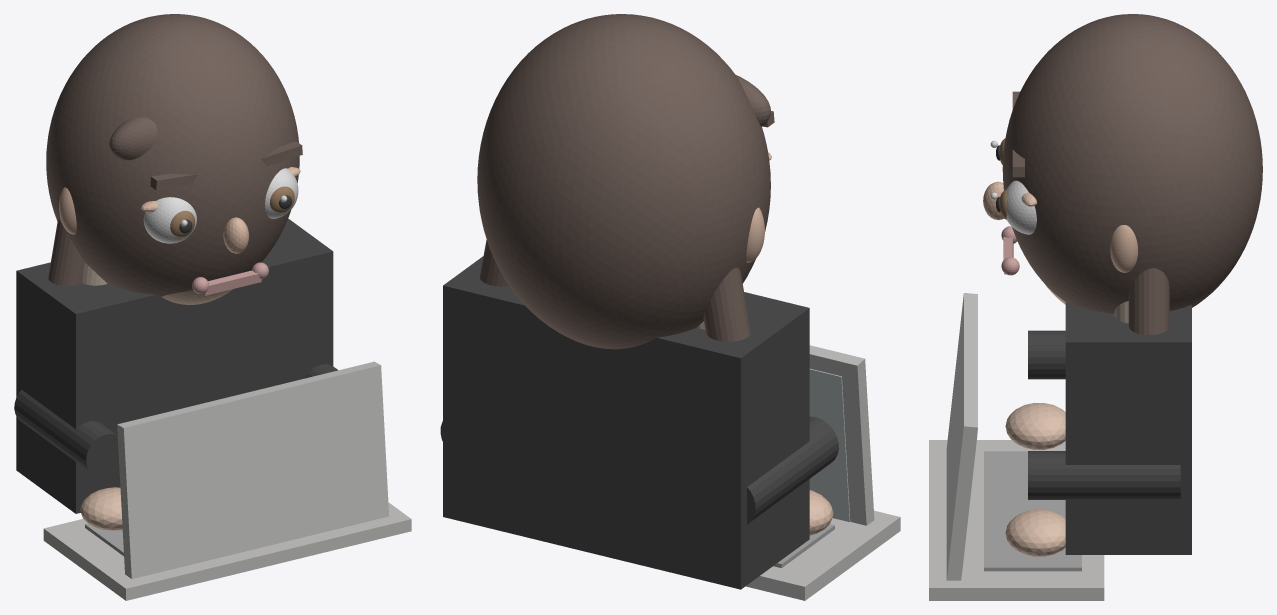
File: paulina_avatar_cartoon_v1.glb
3 views of the same model, side by side, from view 1: azimuth 30°, elevation 25°; view 2: azimuth 150°, elevation 25°; view 3: azimuth 270°, elevation 25° (orthographic). The views are drawn at different scales.
Visible parts, largest first — view 1: HairCap, Torso, LaptopScreen, LaptopBase, Arm_L, HairFringe_L, HairStrand_0, Hand_L, EyeWhite_L, EyeWhite_R, Mouth, Nose (+5 smaller); view 2: Torso, HairCap, LaptopBase, LaptopScreen, Arm_L, ScreenGlow, HairStrand_0, Hand_L, HairFringe_L, Ear_L, HairStrand_3; view 3: HairCap, Torso, LaptopBase, LaptopScreen, LaptopKeyboard, Arm_R, HairStrand_3, Hand_R, Hand_L, Arm_L, EyeWhite_R, Ear_R (+1 smaller).
Part boxes in pixels (x1=…): HairCap: x1=46, y1=14, x2=299, y2=296; Torso: x1=16, y1=218, x2=333, y2=513; LaptopScreen: x1=117, y1=361, x2=388, y2=578; LaptopBase: x1=43, y1=502, x2=411, y2=600; Arm_L: x1=14, y1=390, x2=119, y2=476; HairFringe_L: x1=109, y1=117, x2=157, y2=160; HairStrand_0: x1=48, y1=219, x2=84, y2=285; Hand_L: x1=80, y1=487, x2=122, y2=530; EyeWhite_L: x1=143, y1=197, x2=196, y2=243; EyeWhite_R: x1=265, y1=168, x2=298, y2=218; Mouth: x1=203, y1=270, x2=261, y2=295; Nose: x1=223, y1=217, x2=249, y2=253; Torso: x1=443, y1=256, x2=809, y2=589; HairCap: x1=477, y1=14, x2=770, y2=349; LaptopBase: x1=745, y1=510, x2=900, y2=600; LaptopScreen: x1=809, y1=345, x2=874, y2=525; Arm_L: x1=747, y1=416, x2=838, y2=524; ScreenGlow: x1=809, y1=368, x2=850, y2=522; HairStrand_0: x1=703, y1=267, x2=750, y2=341; Hand_L: x1=809, y1=490, x2=833, y2=535; HairFringe_L: x1=735, y1=74, x2=770, y2=126; Ear_L: x1=746, y1=207, x2=764, y2=262; HairStrand_3: x1=479, y1=240, x2=509, y2=286; HairCap: x1=1002, y1=14, x2=1262, y2=313; Torso: x1=1065, y1=301, x2=1191, y2=554; LaptopBase: x1=929, y1=440, x2=1104, y2=600; LaptopScreen: x1=946, y1=293, x2=977, y2=580; LaptopKeyboard: x1=984, y1=451, x2=1081, y2=571; Arm_R: x1=1028, y1=451, x2=1180, y2=499; HairStrand_3: x1=1128, y1=268, x2=1169, y2=334; Hand_R: x1=1005, y1=509, x2=1065, y2=556; Hand_L: x1=1005, y1=403, x2=1065, y2=449; Arm_L: x1=1028, y1=330, x2=1065, y2=379; EyeWhite_R: x1=1006, y1=180, x2=1036, y2=234; Ear_R: x1=1110, y1=225, x2=1137, y2=272.
Bounding box in the file's own units: 1.72 × 2.73 × 1.64.
